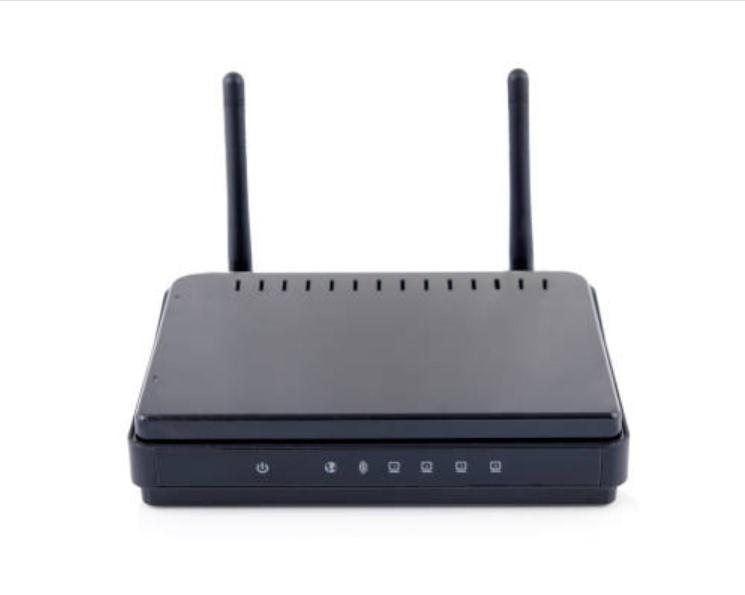Router: (129, 70, 630, 506)
